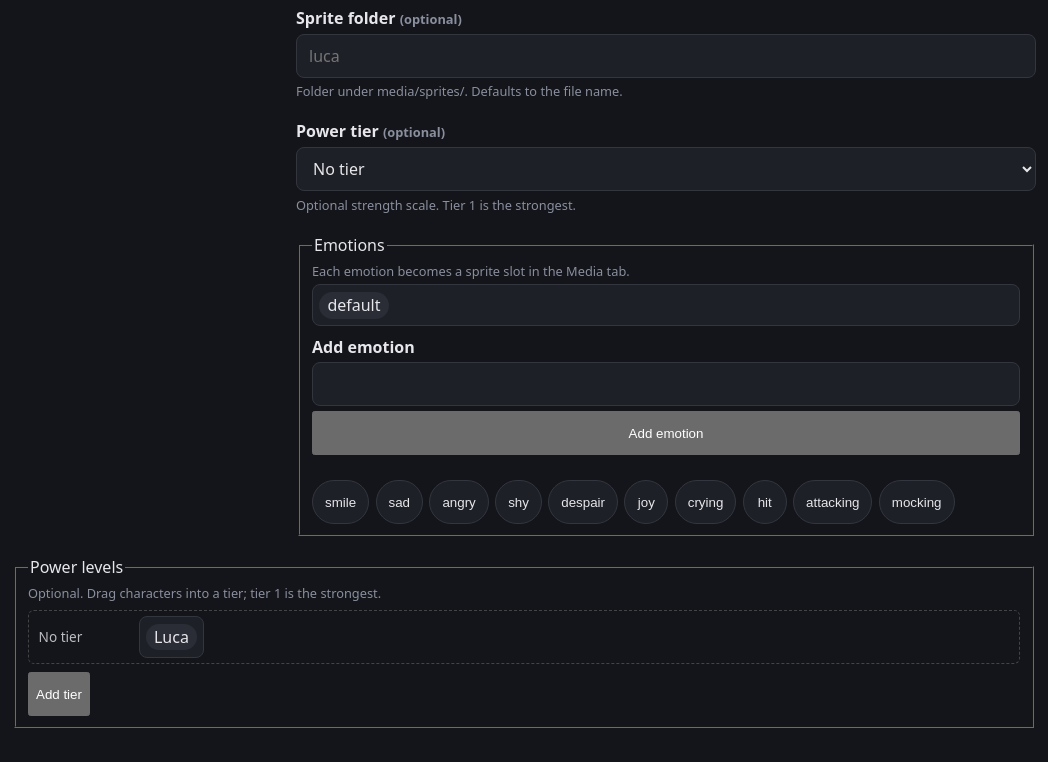
CharactersTab › a duplicate emotion is ignored and an invalid one is rejected
(page scrolled)
Type "default" into the field labelled "Add emotion".
click(666, 384); type("default")  # box [312,362,1020,406]
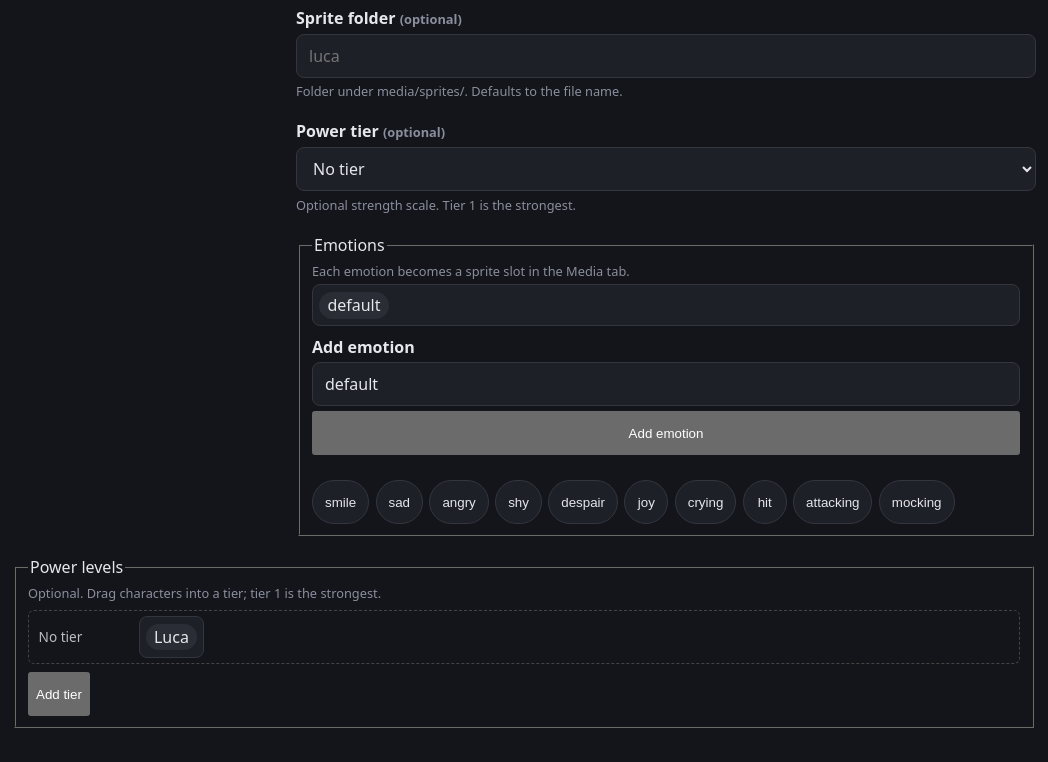
Press Enter in the field labelled "Add emotion", box [312,362,1020,406]
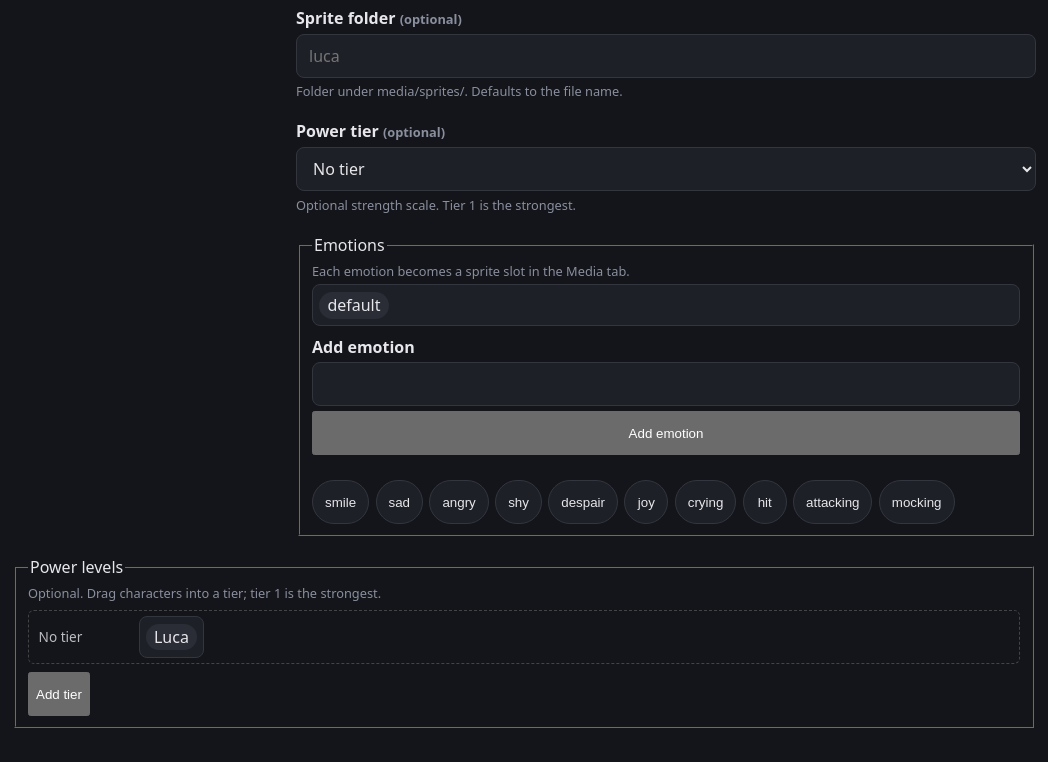
Type "Feliz" into the field labelled "Add emotion".
click(666, 384); type("Feliz")  # box [312,362,1020,406]
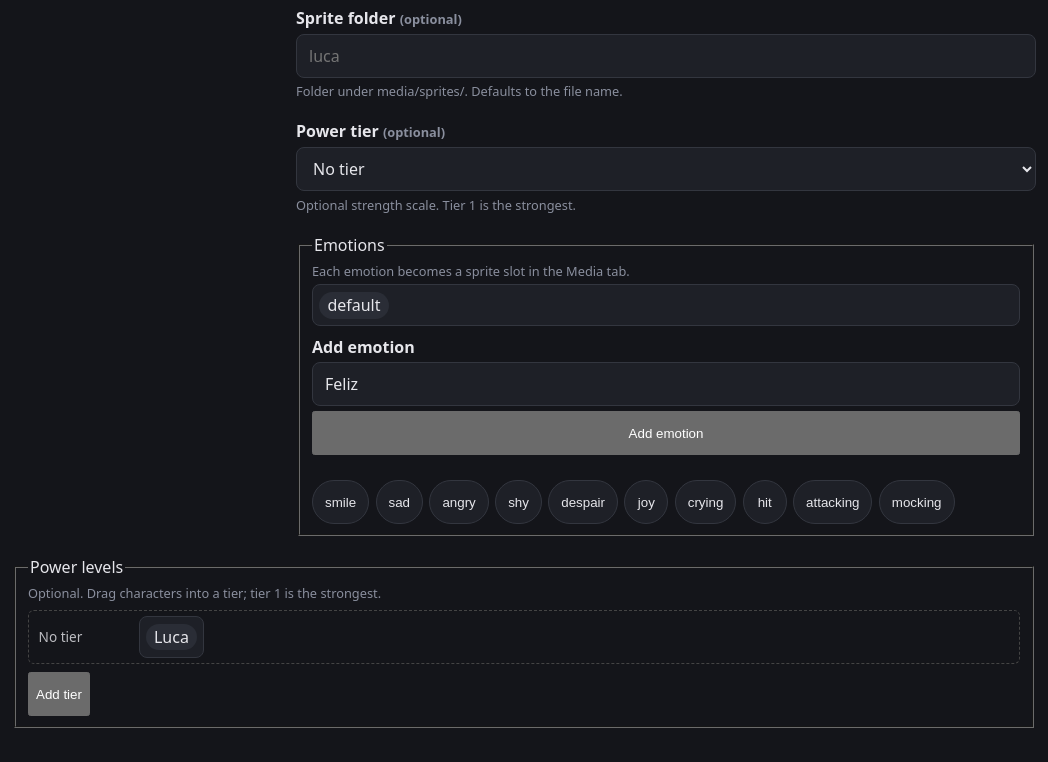
Press Enter in the field labelled "Add emotion", box [312,362,1020,406]
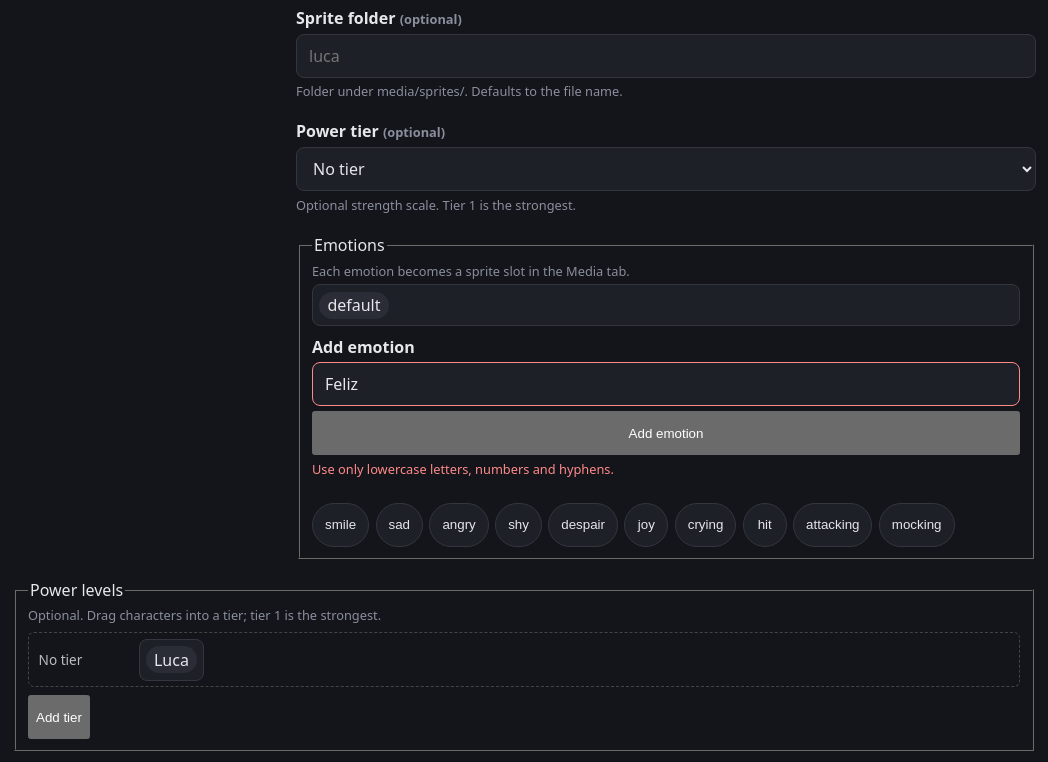
Expected: the text "Use only lowercase letters, numbers and hyphens." is shown, [312,460,614,478]
